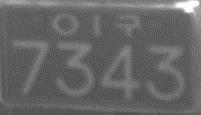0: (52, 10, 81, 37)
1: (84, 12, 110, 37)
3: (55, 39, 96, 98), (146, 44, 187, 102)
4: (100, 43, 142, 101)
7: (11, 39, 51, 95)
구: (115, 13, 143, 37)
